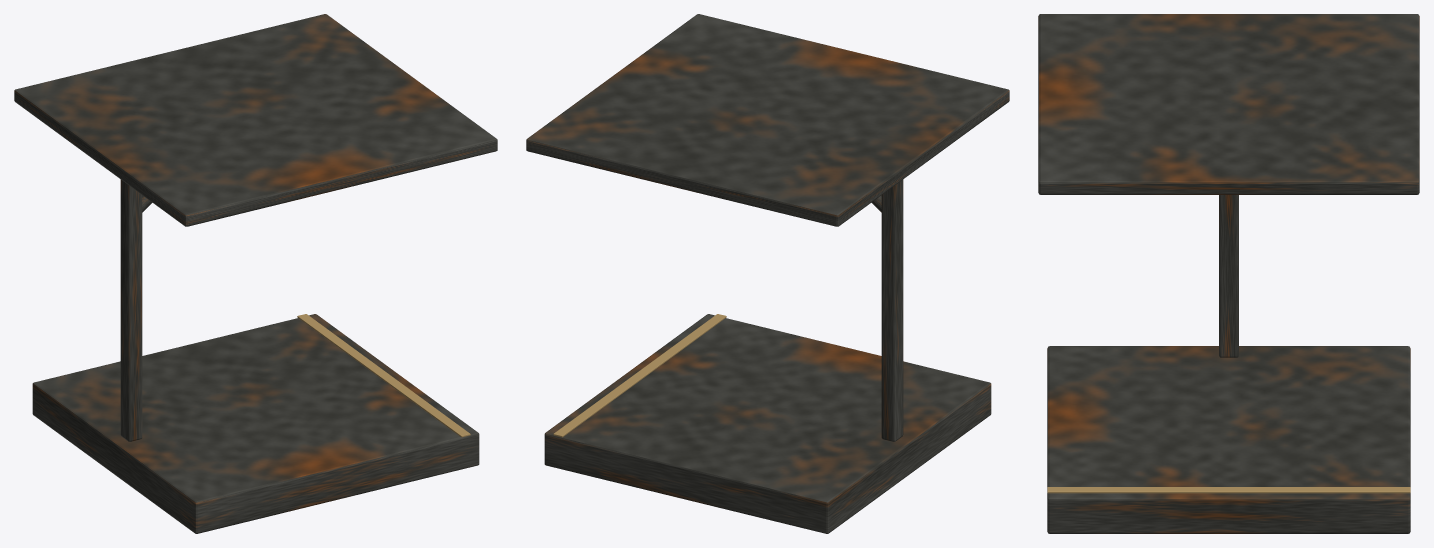
File: peron_modular.glb
3 renders of one model, left to right at view 1: azimuth 30°, elevation 25°; view 2: azimuth 150°, elevation 25°; view 3: azimuth 270°, elevation 25°, orthographic. The views are drawn at different scales.
Visible parts, largest first — view 1: Kanopi, Peron, Kolom atap, Tepi peron; view 2: Kanopi, Peron, Kolom atap, Tepi peron; view 3: Kanopi, Peron, Kolom atap, Tepi peron.
Boxes of the visible parts, x1,y1,x2,y2 form: Kanopi: (14, 14, 497, 226); Peron: (32, 314, 479, 533); Kolom atap: (120, 179, 142, 441); Tepi peron: (297, 314, 470, 437); Kanopi: (526, 14, 1009, 226); Peron: (544, 314, 991, 533); Kolom atap: (881, 179, 903, 441); Tepi peron: (553, 314, 726, 437); Kanopi: (1038, 14, 1419, 194); Peron: (1047, 346, 1410, 533); Kolom atap: (1219, 195, 1238, 357); Tepi peron: (1047, 487, 1410, 493).
Size of the model in its own units: 4.4 by 4.38 by 4.2.
2 materials, 1 textured.
